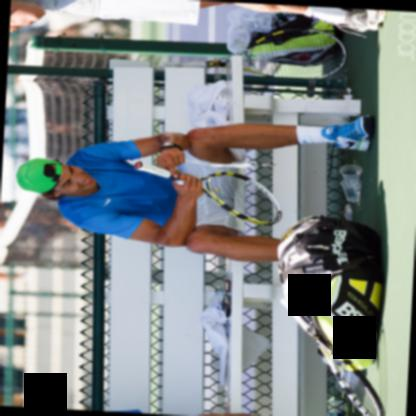backpack: (277, 212, 386, 373), (244, 12, 341, 66)
